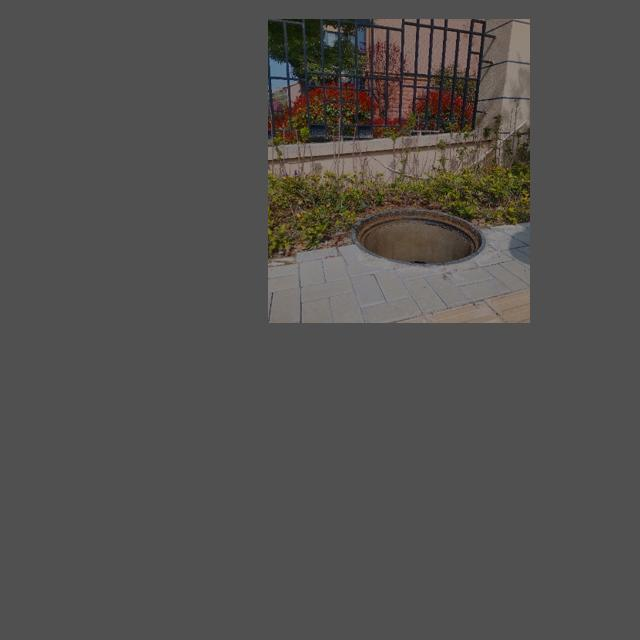lose: (354, 208, 487, 265)
